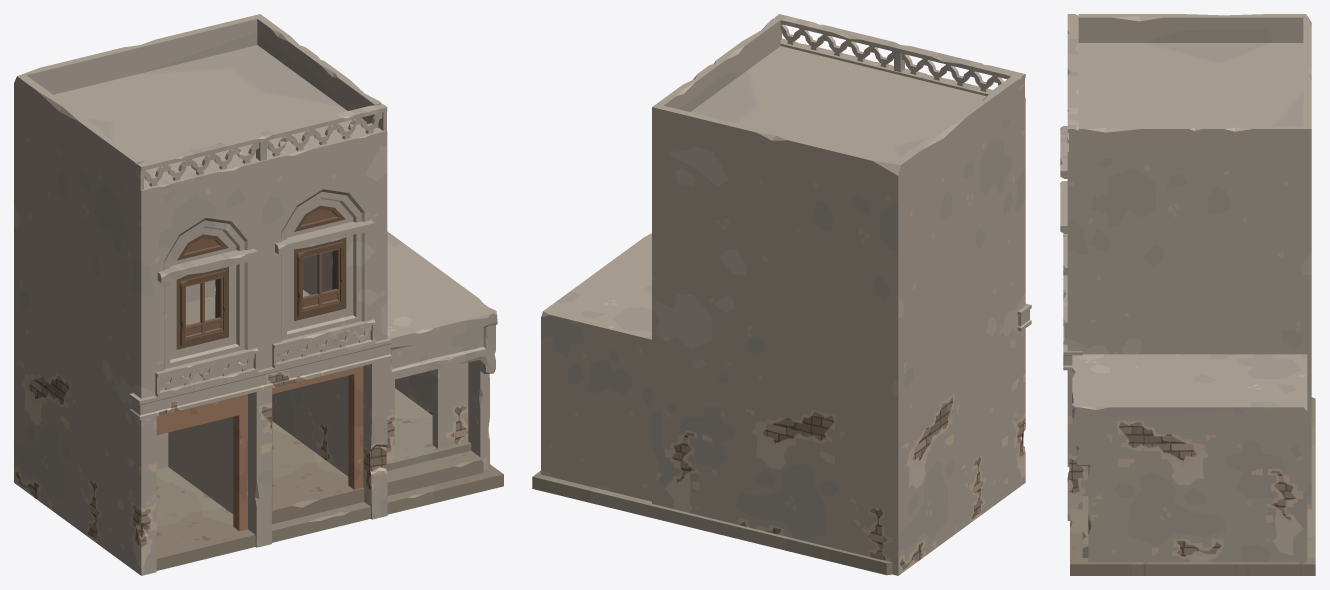
Rendered from SM_Bld_Shop_01.fbx.
3 renders of one model, left to right at view 1: azimuth 30°, elevation 25°; view 2: azimuth 150°, elevation 25°; view 3: azimuth 270°, elevation 25°, orthographic. The views are drawn at different scales.
Parts seen in each view (by area): view 1: SM_Bld_Shop_01; view 2: SM_Bld_Shop_01; view 3: SM_Bld_Shop_01.
Boxes of the visible parts, box(x1,y1,x2,y2) form: SM_Bld_Shop_01: box(14, 14, 503, 575); SM_Bld_Shop_01: box(532, 14, 1031, 575); SM_Bld_Shop_01: box(1060, 14, 1315, 575).
Bounding box in the file's own units: 956 × 1016 × 600.
